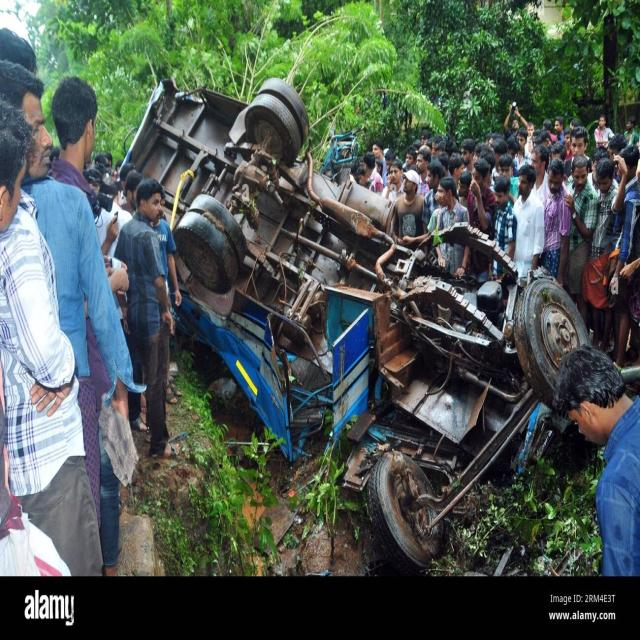accident: (129, 78, 588, 570)
